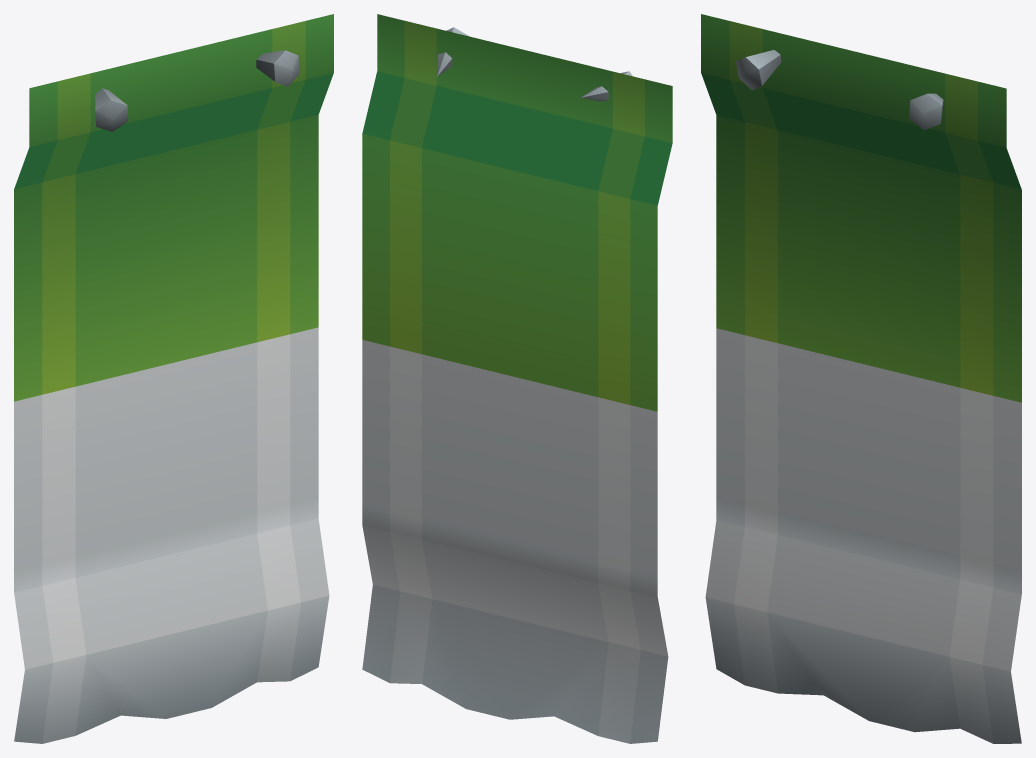
File: dungeon-banner-green.glb
The picture shows the model from 3 angles, left to right: view 1: azimuth 30°, elevation 25°; view 2: azimuth 150°, elevation 25°; view 3: azimuth 330°, elevation 25°; orthographic projection. The views are drawn at different scales.
Parts seen in each view (by area): view 1: dungeon-banner-green; view 2: dungeon-banner-green; view 3: dungeon-banner-green.
Boxes of the visible parts, x1=… form: dungeon-banner-green: x1=14, y1=14, x2=333, y2=743; dungeon-banner-green: x1=362, y1=14, x2=672, y2=743; dungeon-banner-green: x1=701, y1=14, x2=1021, y2=743.
Bounding box in the file's own units: 1.12 × 2.4 × 0.2338.
Materials: 1 (1 with a texture image).
